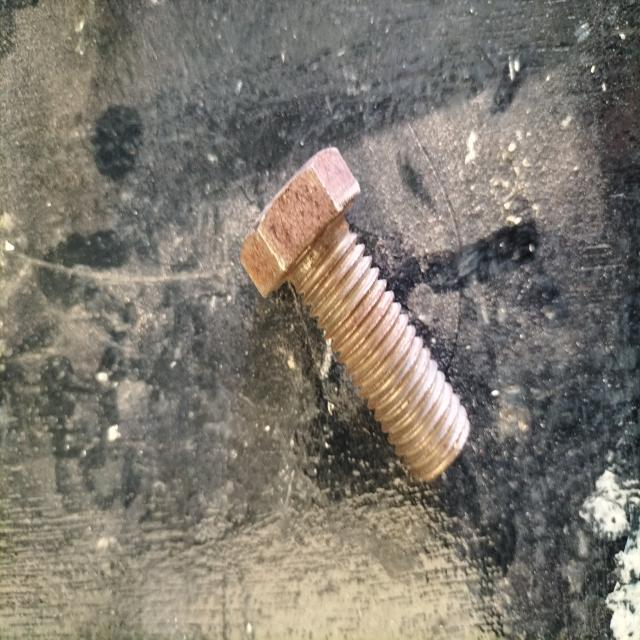bolt: (239, 147, 470, 484)
